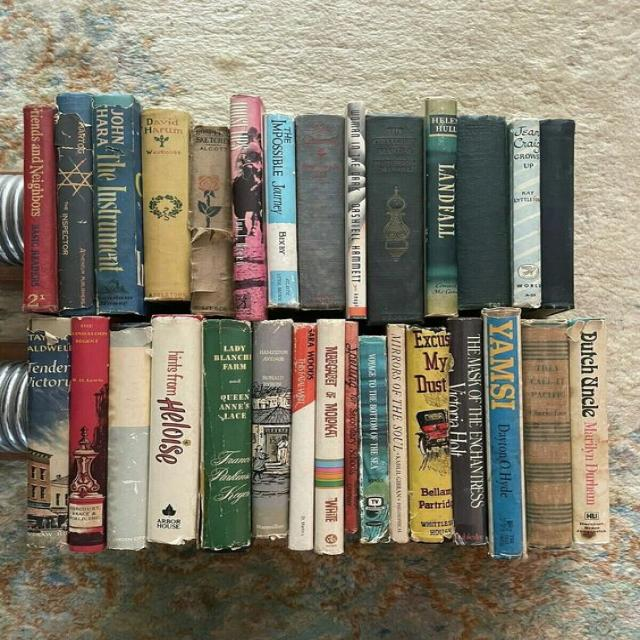book: (146, 315, 202, 545), (199, 319, 251, 551), (522, 321, 572, 548), (367, 116, 422, 319), (94, 94, 144, 314), (455, 116, 510, 313), (482, 308, 525, 558), (27, 316, 71, 546), (406, 327, 453, 542), (295, 114, 344, 311), (66, 317, 107, 552), (142, 108, 192, 300), (567, 319, 608, 543), (107, 327, 148, 550), (447, 318, 486, 545), (252, 320, 292, 539), (230, 94, 266, 320), (56, 93, 92, 314), (314, 321, 345, 555), (424, 98, 457, 317), (191, 125, 229, 315), (23, 105, 56, 312), (357, 335, 389, 543), (540, 119, 574, 311), (287, 323, 315, 551), (266, 111, 296, 307), (511, 117, 540, 308), (346, 101, 367, 319), (388, 326, 409, 543), (344, 323, 359, 534)
